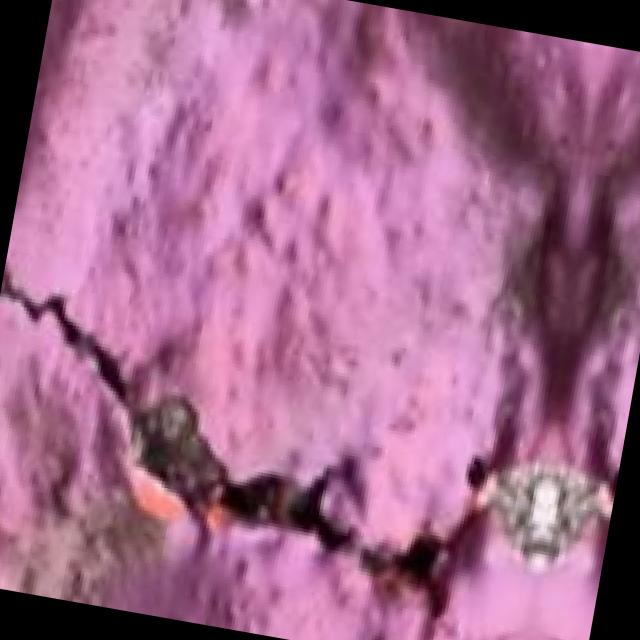crack: (0, 201, 633, 640)
